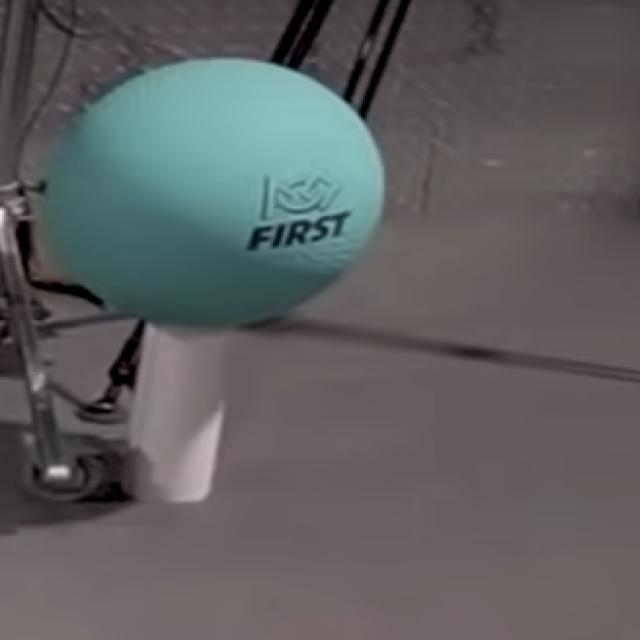Algae: (37, 60, 383, 328)
Coral: (123, 328, 235, 504)
